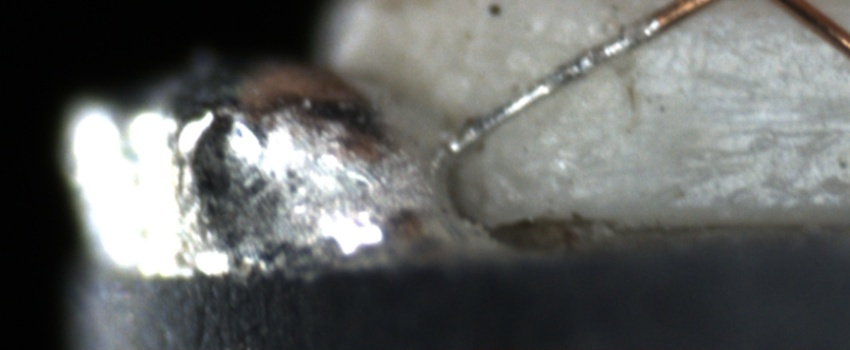DL: (689, 103, 850, 156)
TS: (451, 18, 660, 151)
